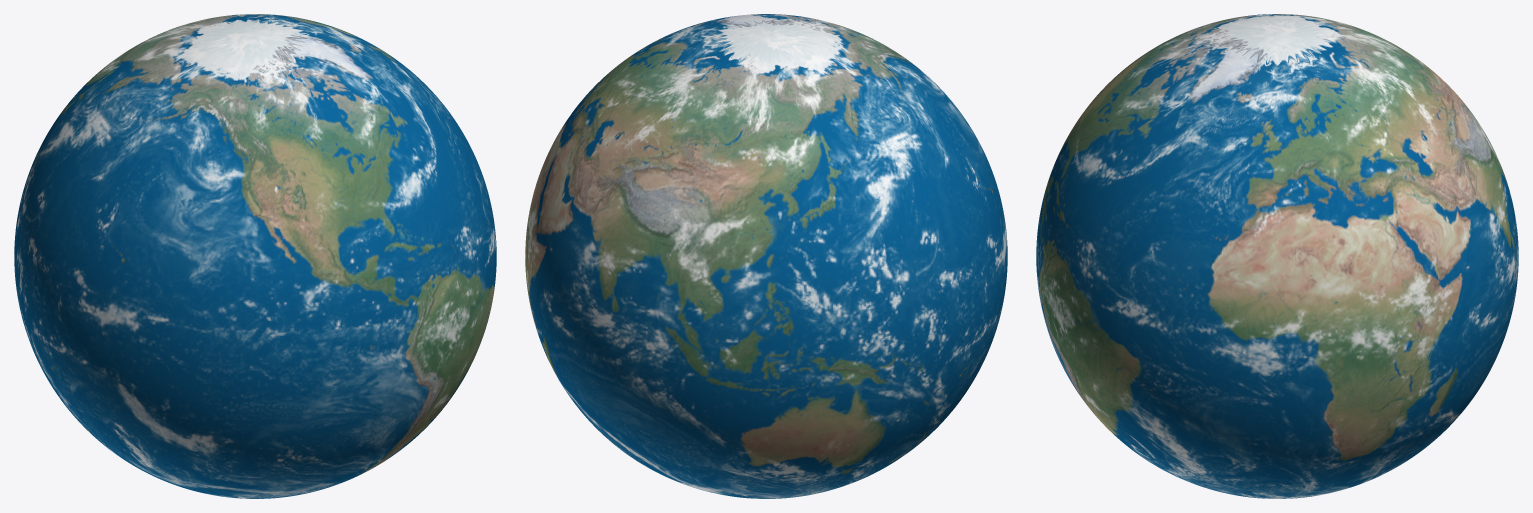
Rendered from Earth.glb.
3 renders of one model, left to right at view 1: azimuth 30°, elevation 25°; view 2: azimuth 150°, elevation 25°; view 3: azimuth 270°, elevation 25°, orthographic.
Visible parts, largest first — view 1: Sphere_2; view 2: Sphere_2; view 3: Sphere_2.
Boxes of the visible parts, x1,y1,x2,y2 form: Sphere_2: (14,14,496,498); Sphere_2: (525,14,1007,498); Sphere_2: (1036,14,1518,498).
Bounding box in the file's own units: 2.23 × 2.25 × 2.23.
1 material, 1 textured.
